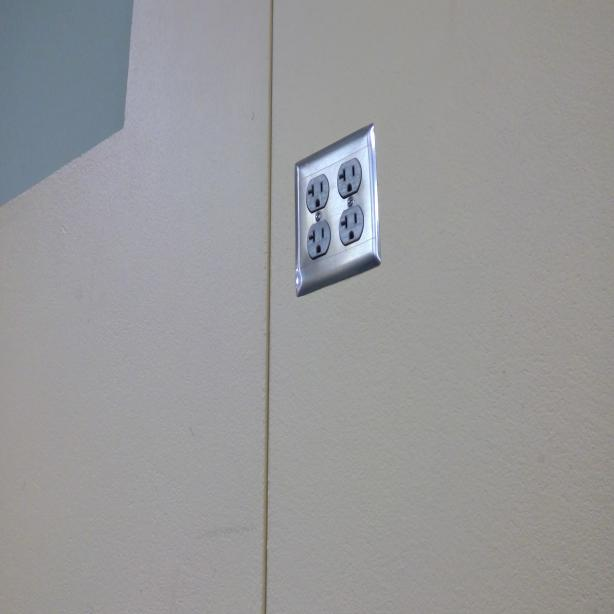typeb: (306, 176, 330, 208), (341, 209, 363, 243), (337, 162, 360, 193), (306, 224, 328, 256)
